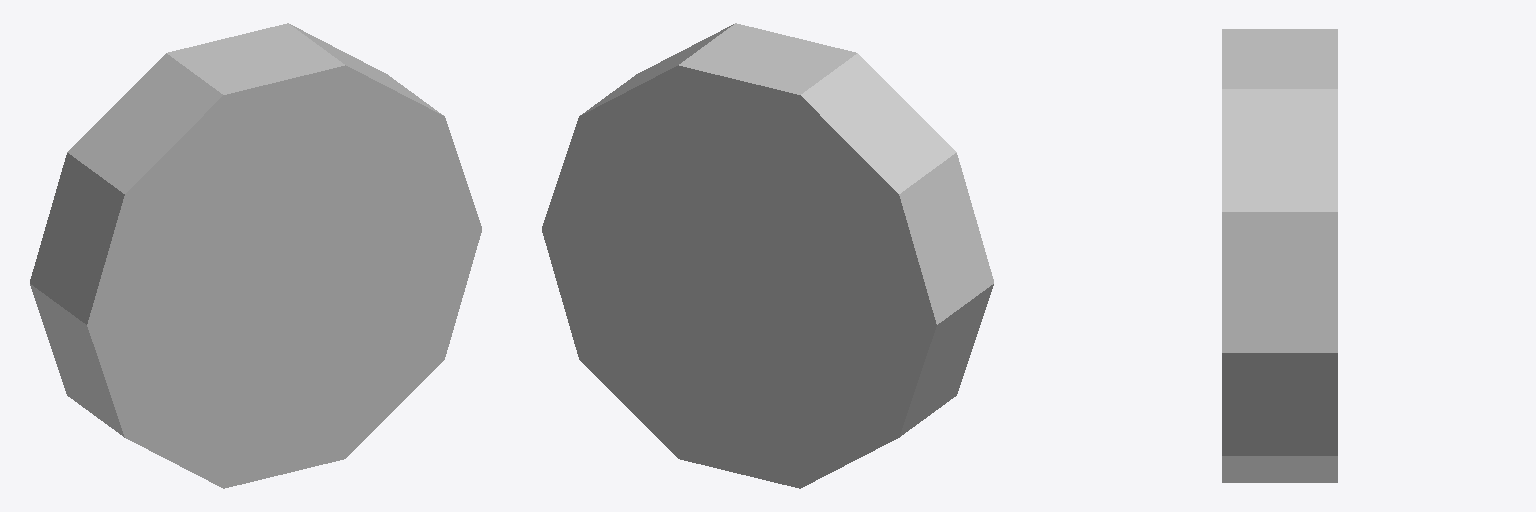
File: rightlegjoint.obj
3 renders of one model, left to right at view 1: azimuth 30°, elevation 25°; view 2: azimuth 150°, elevation 25°; view 3: azimuth 270°, elevation 25°, orthographic.
Parts seen in each view (by area): view 1: cylinder8_sep42; view 2: cylinder8_sep42; view 3: cylinder8_sep42.
Part boxes in pixels (left/top/right/bottom): cylinder8_sep42: left=30, top=23, right=481, bottom=488; cylinder8_sep42: left=542, top=23, right=993, bottom=488; cylinder8_sep42: left=1222, top=29, right=1337, bottom=482.
Size of the model in its own units: 3.06 by 2.91 by 0.7718.